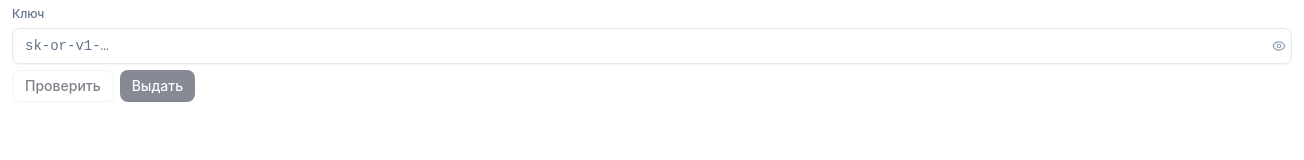
Test: KeyIssueForm › не даёт выдать ключ без префикса sk-or-
Type "not-a-key-at-all-abcdefgh" into the password field named "Ключ OpenRouter" at (652, 46), box [12, 28, 1292, 64]
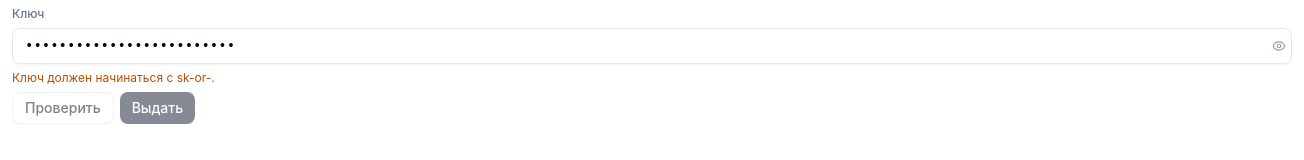
Expected: the button "Выдать" is disabled, [120, 92, 195, 124]
Expected: the text "Ключ должен начинаться с sk-or-." is shown, [12, 70, 215, 85]
